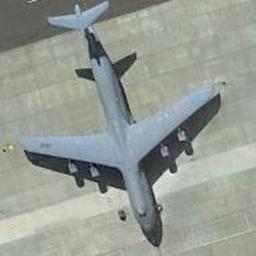Airplane: (15, 0, 223, 247)
